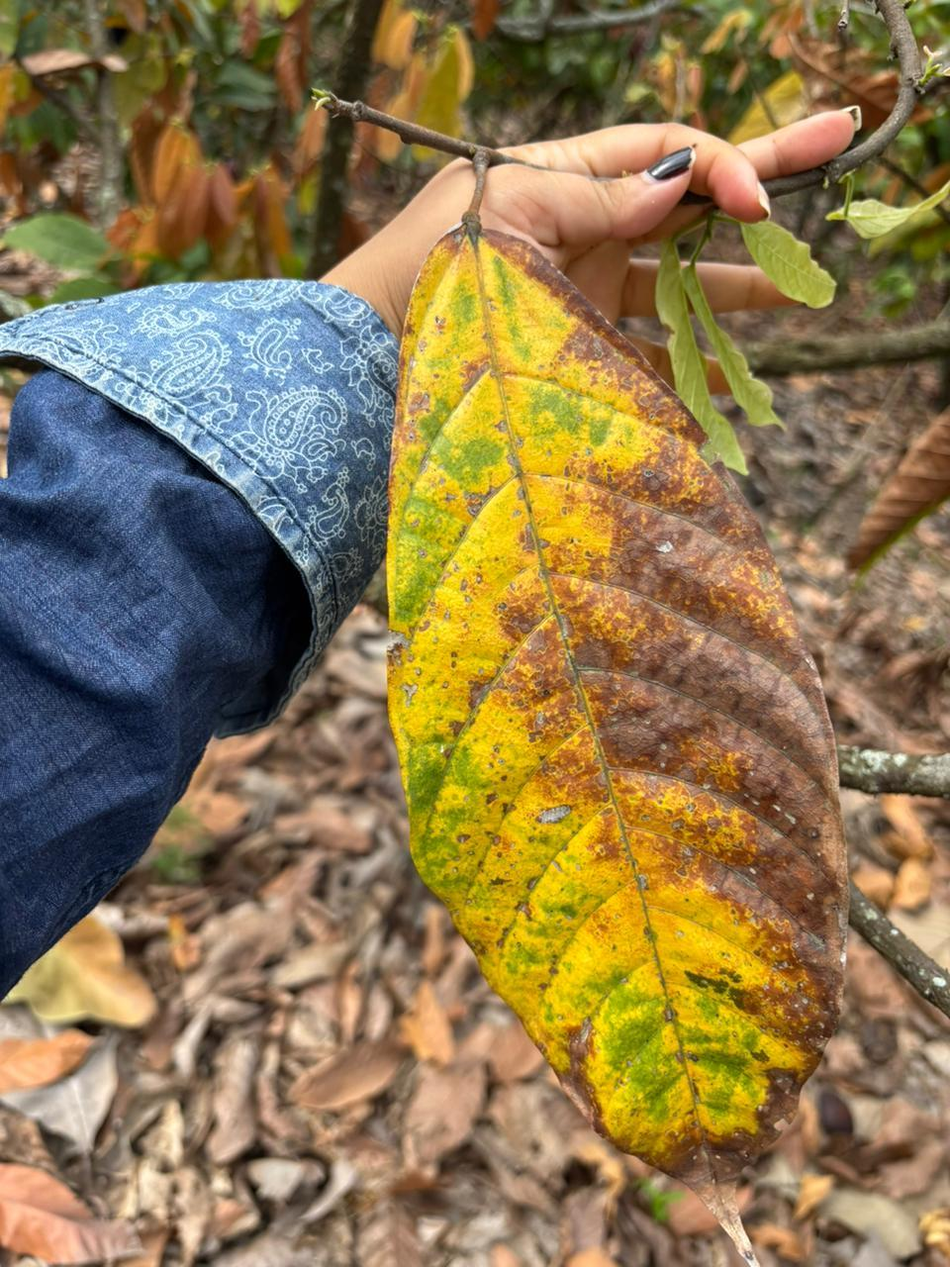deficienciia_fosforo: (389, 217, 846, 1266)
